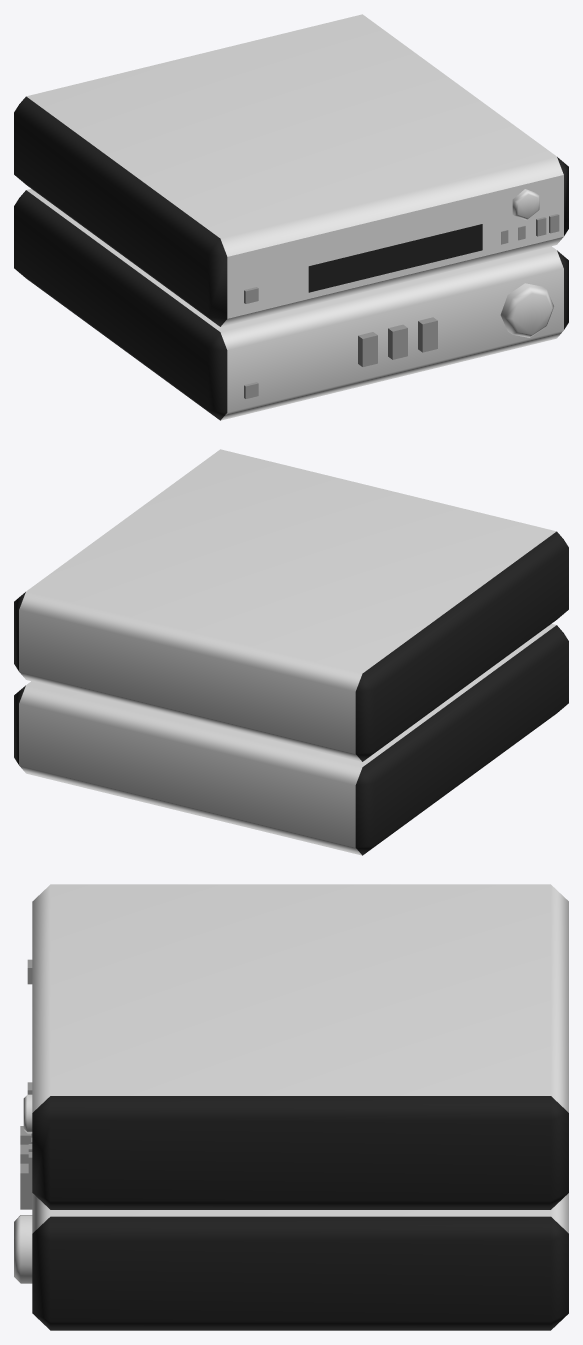
Rendered from entertainment_006.fbx.
3 views of the same model, one above another, from view 1: azimuth 30°, elevation 25°; view 2: azimuth 150°, elevation 25°; view 3: azimuth 270°, elevation 25° (orthographic). The views are drawn at different scales.
Visible parts, largest first — view 1: entertainment_006; view 2: entertainment_006; view 3: entertainment_006.
Boxes of the visible parts, x1,y1,x2,y2 form: entertainment_006: (14, 14, 568, 420); entertainment_006: (14, 449, 568, 855); entertainment_006: (14, 884, 568, 1330).
Size of the model in its own units: 43.09 by 44.57 by 20.79.
